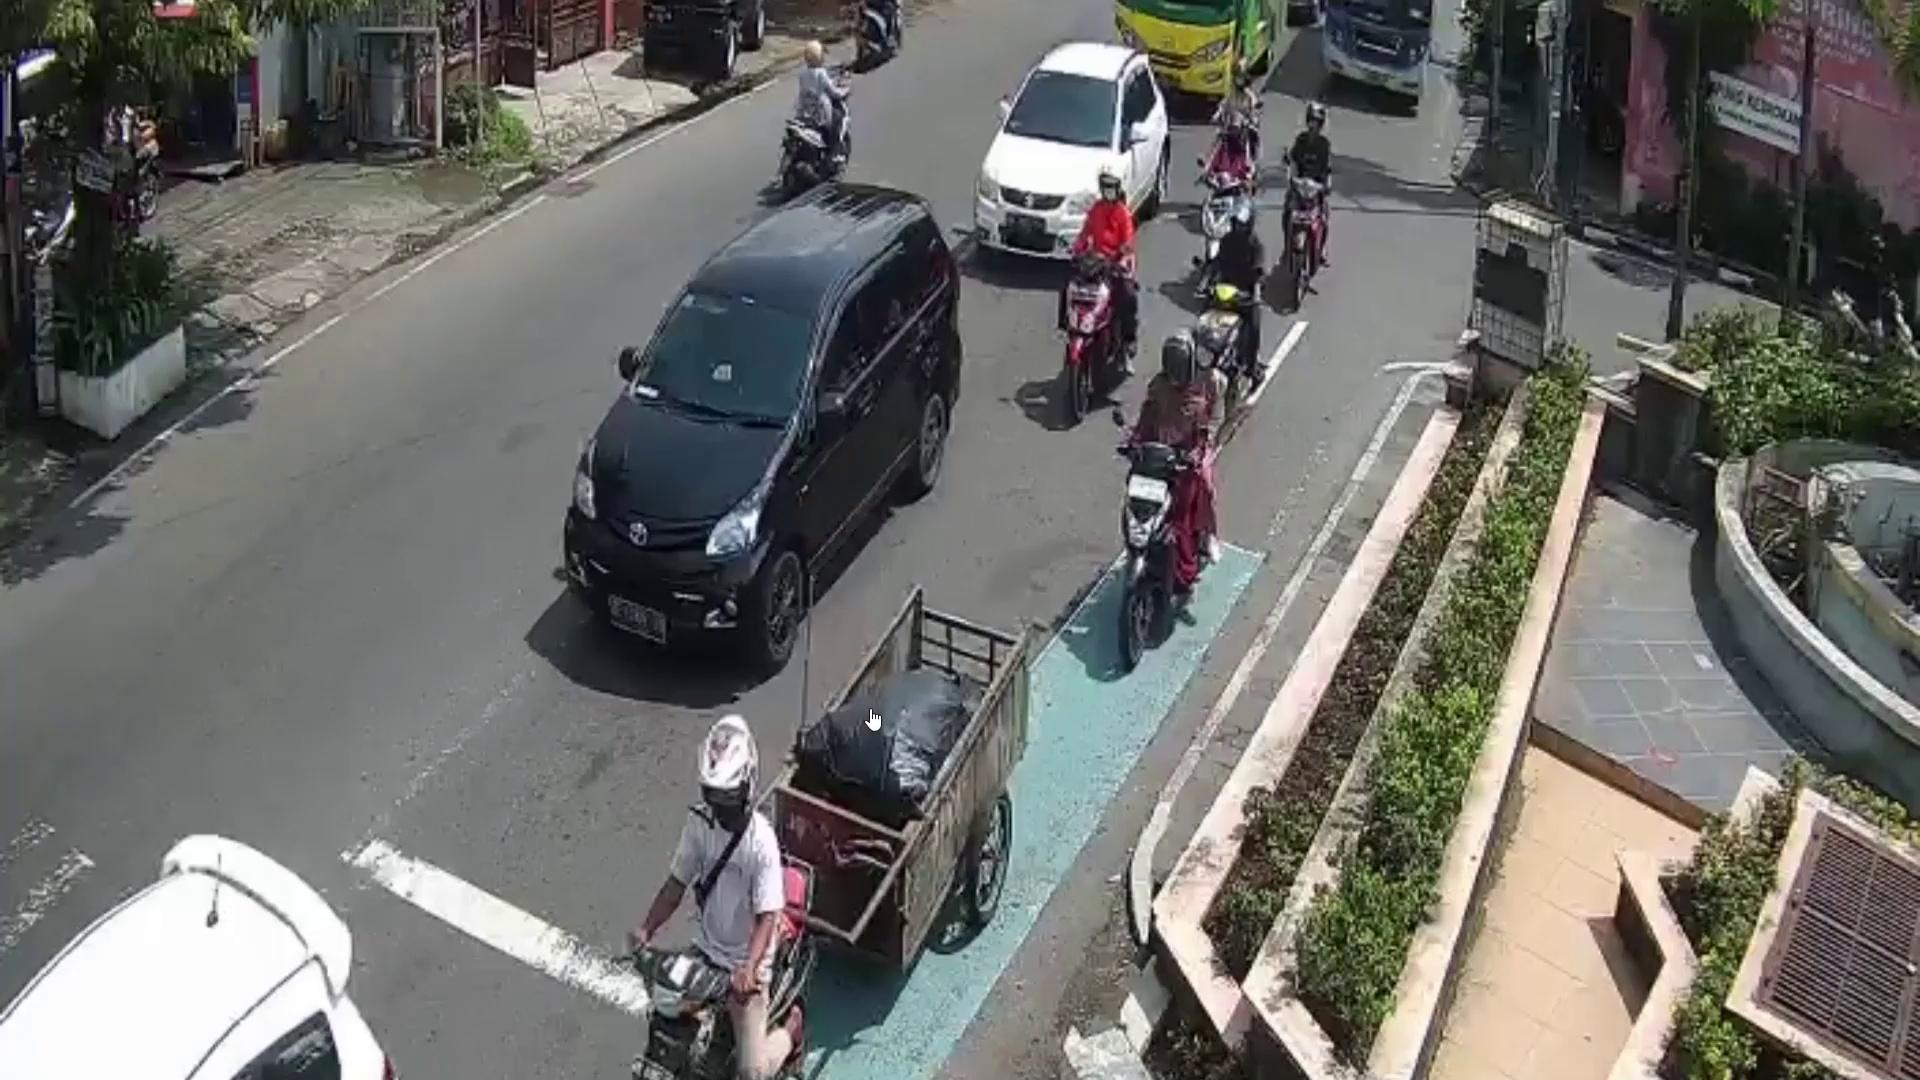bus: (1109, 0, 1287, 96)
car: (554, 175, 967, 670), (976, 42, 1170, 268)
motorbike: (618, 848, 831, 1080), (1102, 435, 1201, 665), (1051, 244, 1141, 435), (777, 83, 858, 191), (1282, 173, 1337, 315), (1197, 160, 1244, 305)
